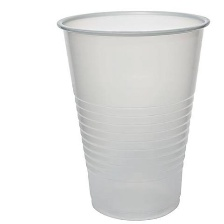glass: (53, 6, 214, 224)
